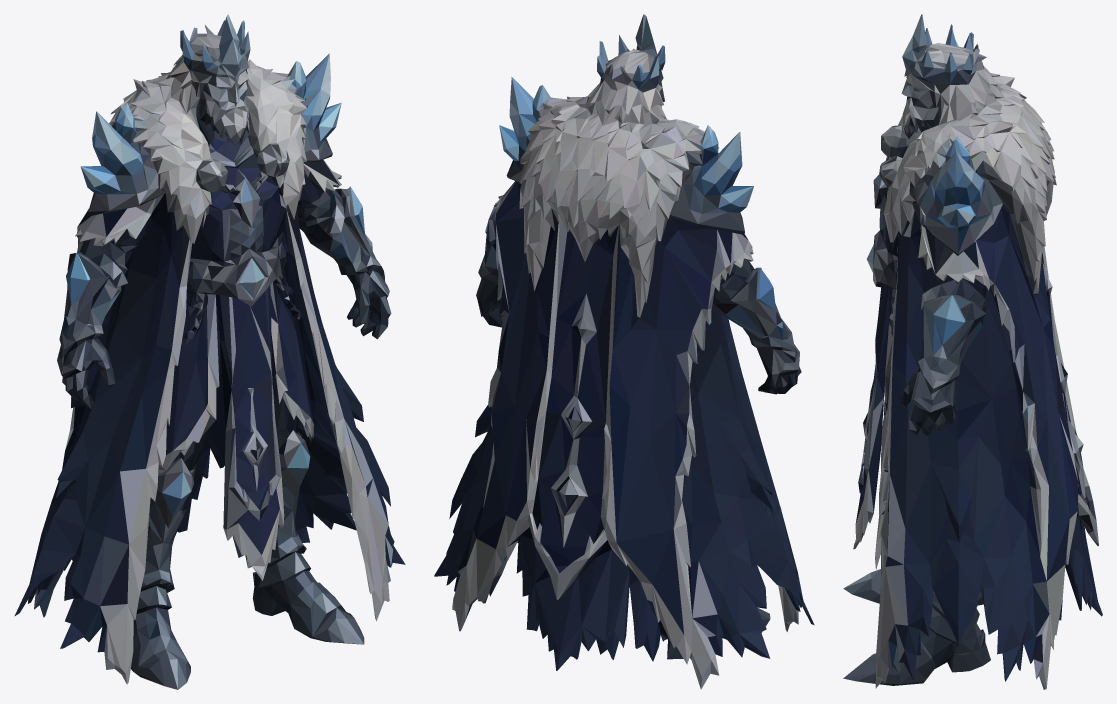
File: winter-king.glb
3 views of the same model, side by side, from view 1: azimuth 30°, elevation 25°; view 2: azimuth 150°, elevation 25°; view 3: azimuth 270°, elevation 25° (orthographic). The views are drawn at different scales.
Visible parts, largest first — view 1: tripo_node_a9ee9aa6-6441-4b0d-a61d-83e4f4ce3986; view 2: tripo_node_a9ee9aa6-6441-4b0d-a61d-83e4f4ce3986; view 3: tripo_node_a9ee9aa6-6441-4b0d-a61d-83e4f4ce3986.
Part boxes in pixels (x1,y1,x2,y2): tripo_node_a9ee9aa6-6441-4b0d-a61d-83e4f4ce3986: (14,14,405,689); tripo_node_a9ee9aa6-6441-4b0d-a61d-83e4f4ce3986: (434,14,814,689); tripo_node_a9ee9aa6-6441-4b0d-a61d-83e4f4ce3986: (843,14,1102,689).
Bounding box in the file's own units: 1.45 × 2.4 × 0.9115.
